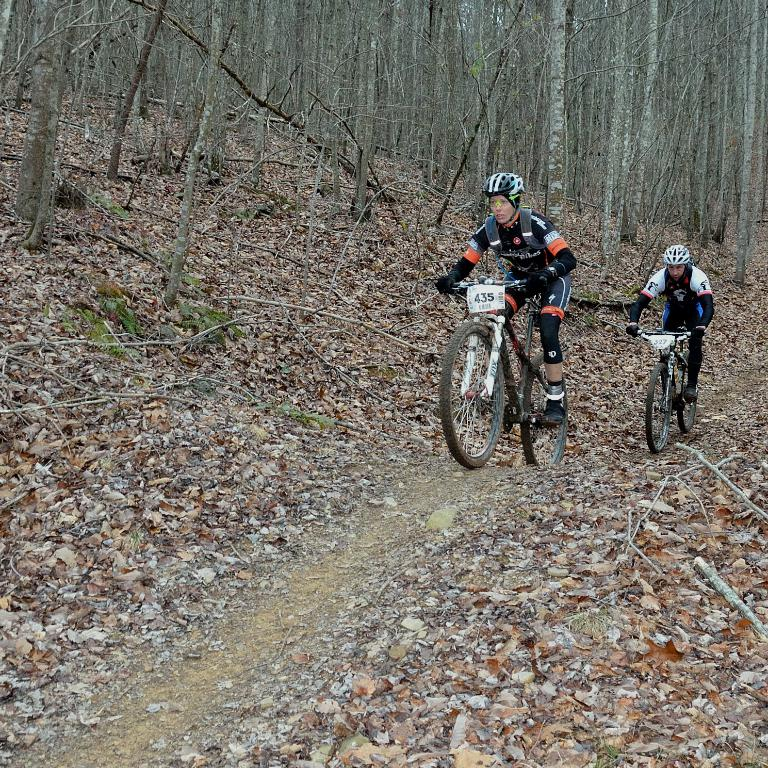Bike: (419, 266, 587, 508)
